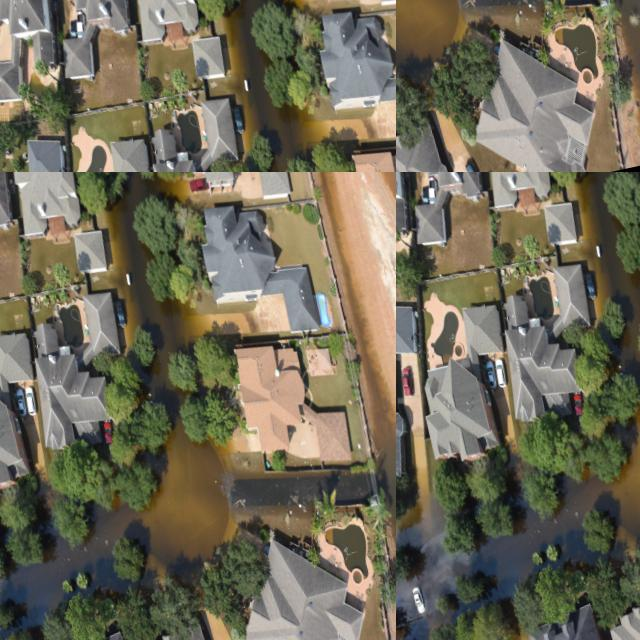fire: (396, 273, 640, 640), (0, 0, 22, 109)
